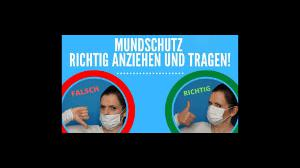mask_weared_incorrect: (100, 99, 122, 129)
with_mask: (206, 98, 228, 127)
